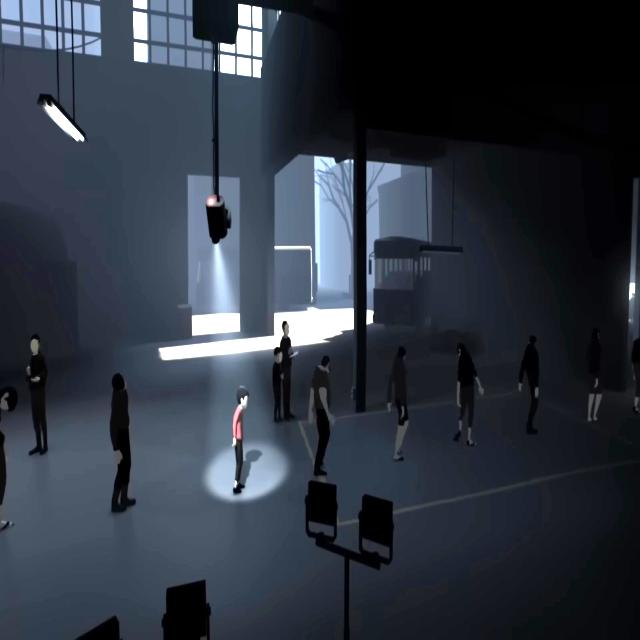human: (26, 334, 48, 455), (280, 320, 298, 421), (272, 347, 284, 423)
zombie: (110, 374, 136, 514), (308, 356, 334, 476), (454, 343, 484, 446), (0, 386, 18, 532), (387, 346, 409, 461), (519, 336, 540, 436), (586, 328, 604, 422), (631, 337, 640, 414)
